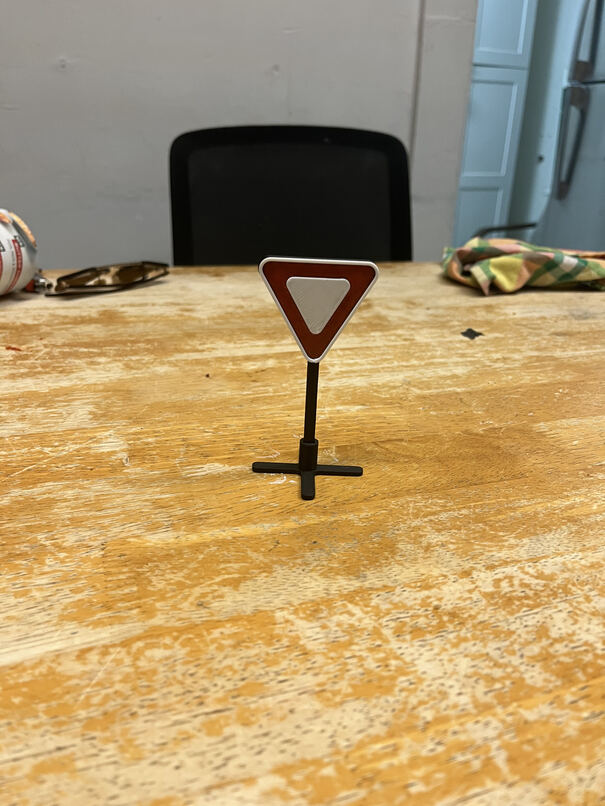sign_yield: (261, 256, 381, 362)
